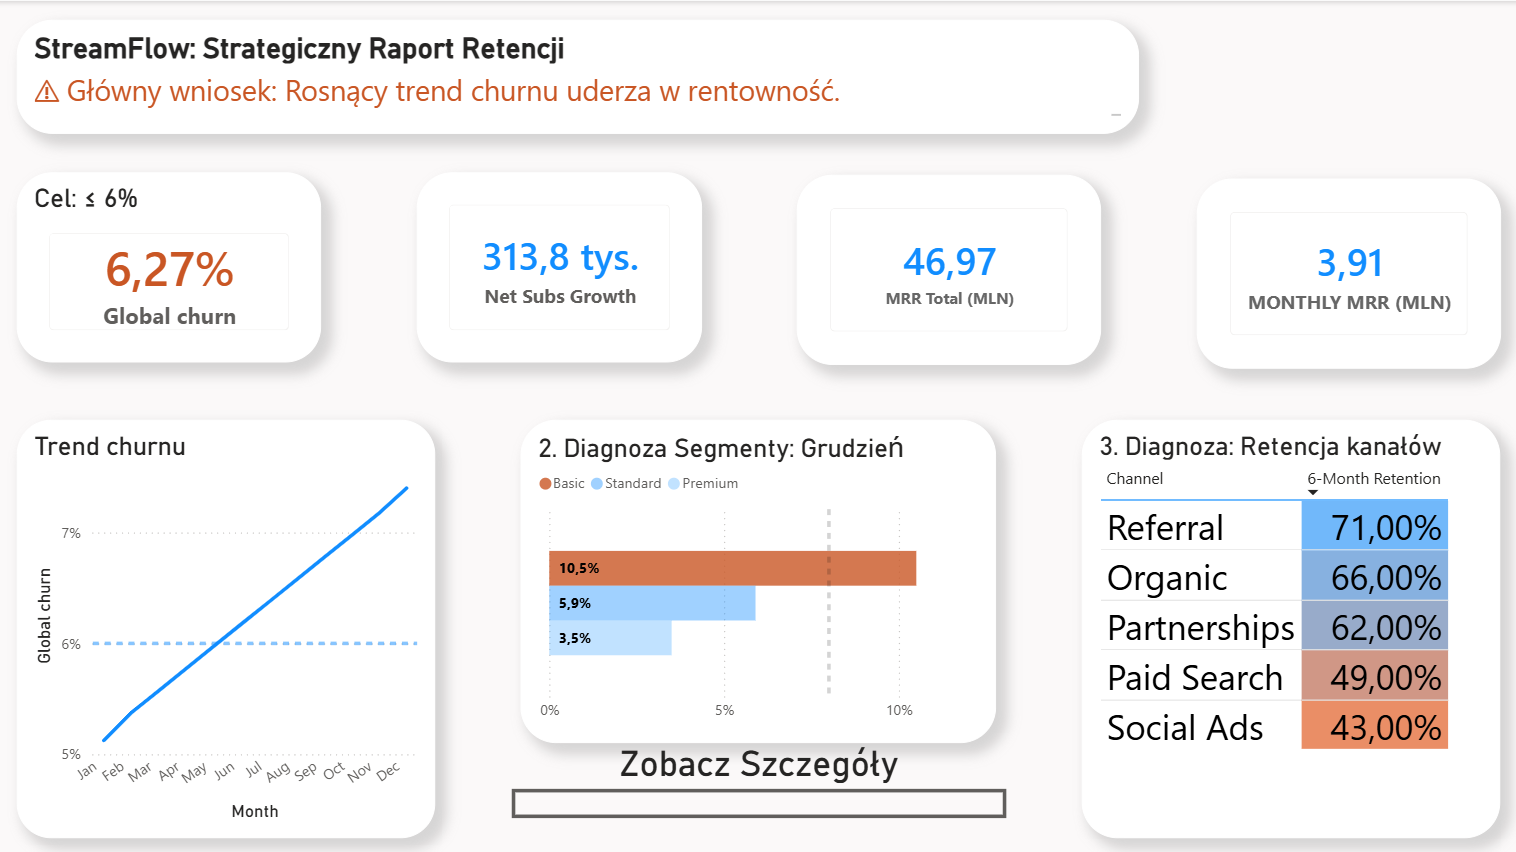

This screenshot's page, from the dashboard's own definition file:
{"tool":"powerbi","page":{"name":"Strona 1","canvas":[1280,720],"ordinal":0},"visuals":[{"type":"textbox","title":"StreamFlow: Strategiczny Raport Retencji","box":[16,16,944,96],"z":0},{"type":"cardVisual","title":"Cel: ≤ 6%","fields":{"Data":["Performance.Global churn"]},"box":[16,144,256,160],"z":1000},{"type":"cardVisual","fields":{"Data":["Performance.Net Subs Growth"]},"box":[352,144,240,160],"z":2000},{"type":"cardVisual","fields":{"Data":["Performance.MRR Total"]},"box":[672,146.7,256,160],"z":3000},{"type":"clusteredBarChart","title":"2. Diagnoza Segmenty: Grudzień","fields":{"Y":["Avg(Churn by Plan.Basic)","Avg(Churn by Plan.Standard)","Avg(Churn by Plan.Premium)"]},"box":[440,352,400,272],"z":4000},{"type":"tableEx","title":"3. Diagnoza: Retencja kanałów","fields":{"Values":["Retension by channel.Channel","Retension by channel.6-Month Retention"]},"box":[912,352,352,352],"z":5000},{"type":"lineChart","title":"Trend churnu  ","fields":{"Y":["Performance.Global churn"],"Category":["Performance.Month"]},"box":[16,352,352,352],"z":6000},{"type":"cardVisual","fields":{"Data":["Performance.MONTHLY MRR"]},"box":[1008,149.3,256,160],"z":7000},{"type":"actionButton","title":"Zobacz Szczegóły","box":[432,624,416,64],"z":8000}]}

Visuals, with their boxes in screenshot pixels (x1, y1, x2, y2), scaled from the page's 1280x720 canvas onto the 1516x852 screenshot:
"StreamFlow: Strategiczny Raport Retencji" textbox: Rect(19, 19, 1137, 133)
"Cel: ≤ 6%" cardVisual: Rect(19, 170, 322, 360)
cardVisual - Performance.Net Subs Growth: Rect(417, 170, 701, 360)
cardVisual - Performance.MRR Total: Rect(796, 174, 1099, 363)
"2. Diagnoza Segmenty: Grudzień" clusteredBarChart: Rect(521, 417, 995, 738)
"3. Diagnoza: Retencja kanałów" tableEx: Rect(1080, 417, 1497, 833)
"Trend churnu  " lineChart: Rect(19, 417, 436, 833)
cardVisual - Performance.MONTHLY MRR: Rect(1194, 177, 1497, 366)
"Zobacz Szczegóły" actionButton: Rect(512, 738, 1004, 814)
